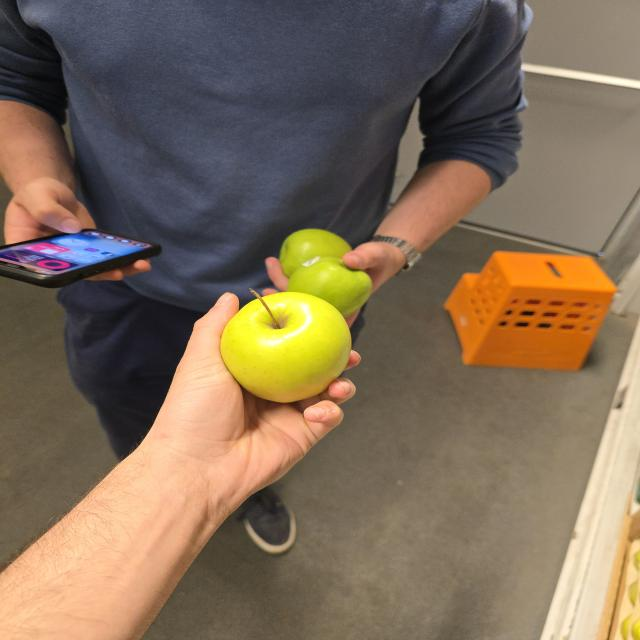Apple: (221, 292, 351, 403), (287, 258, 371, 317), (279, 229, 352, 277)
